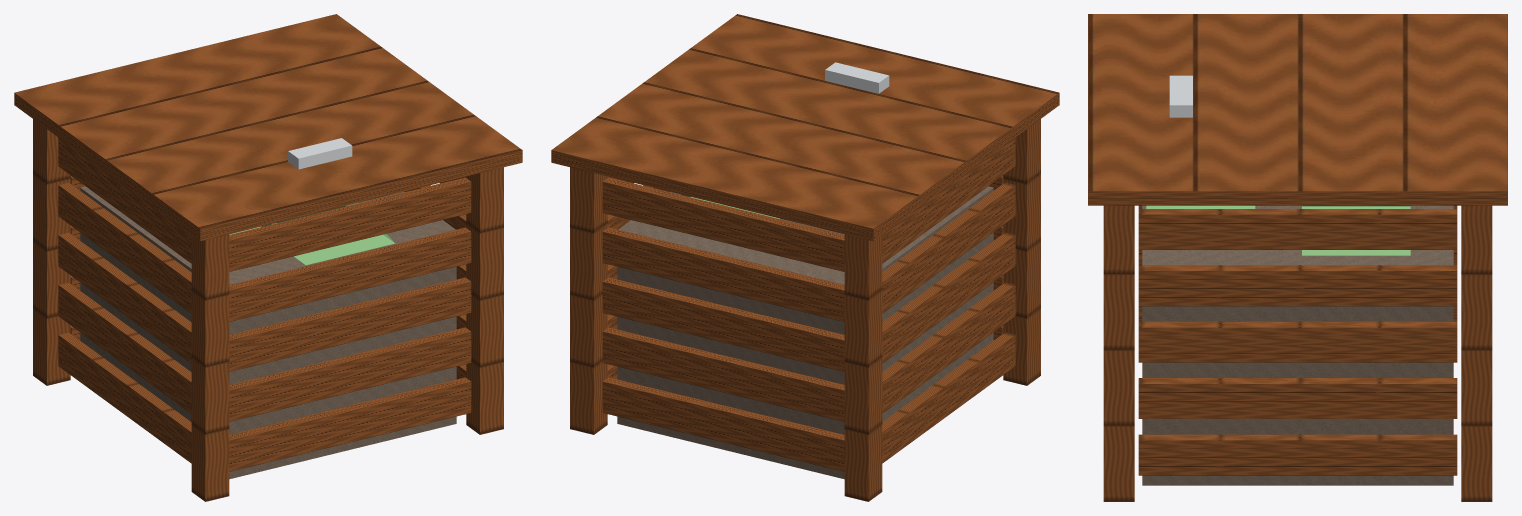
Rendered from allotments-and-community-garden-compost-bin-slatted-be5ba898__35139.glb.
3 views of the same model, side by side, from view 1: azimuth 30°, elevation 25°; view 2: azimuth 150°, elevation 25°; view 3: azimuth 270°, elevation 25° (orthographic). The views are drawn at different scales.
Parts seen in each view (by area): view 1: compost-bin-slatted-timber, lid/timber, compost-bin-slatted-soil, compost-bin-slatted-leaf, lid/galv; view 2: compost-bin-slatted-timber, lid/timber, compost-bin-slatted-soil, lid/galv; view 3: compost-bin-slatted-timber, lid/timber, compost-bin-slatted-soil, compost-bin-slatted-leaf, lid/galv.
Part boxes in pixels (<box>): compost-bin-slatted-timber: <box>33,119,503,501</box>; lid/timber: <box>14,14,522,241</box>; compost-bin-slatted-soil: <box>80,186,456,479</box>; compost-bin-slatted-leaf: <box>229,203,394,265</box>; lid/galv: <box>288,138,352,169</box>; compost-bin-slatted-timber: <box>570,119,1040,501</box>; lid/timber: <box>551,14,1059,241</box>; compost-bin-slatted-soil: <box>617,186,993,479</box>; lid/galv: <box>825,62,889,93</box>; compost-bin-slatted-timber: <box>1103,205,1492,501</box>; lid/timber: <box>1088,14,1507,205</box>; compost-bin-slatted-soil: <box>1142,205,1453,485</box>; compost-bin-slatted-leaf: <box>1146,205,1410,255</box>; lid/galv: <box>1169,75,1192,117</box>.
Size of the model in its own units: 1.08 by 0.935 by 1.08.
Materials: 4 (2 with a texture image).
